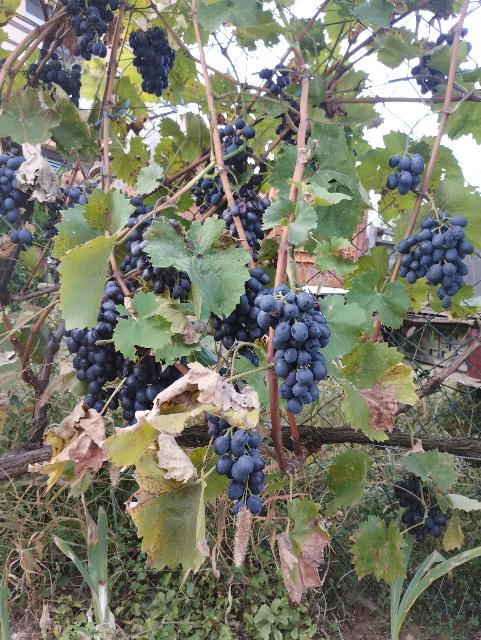grapes: (250, 285, 331, 414), (398, 210, 475, 309), (129, 26, 178, 98)
